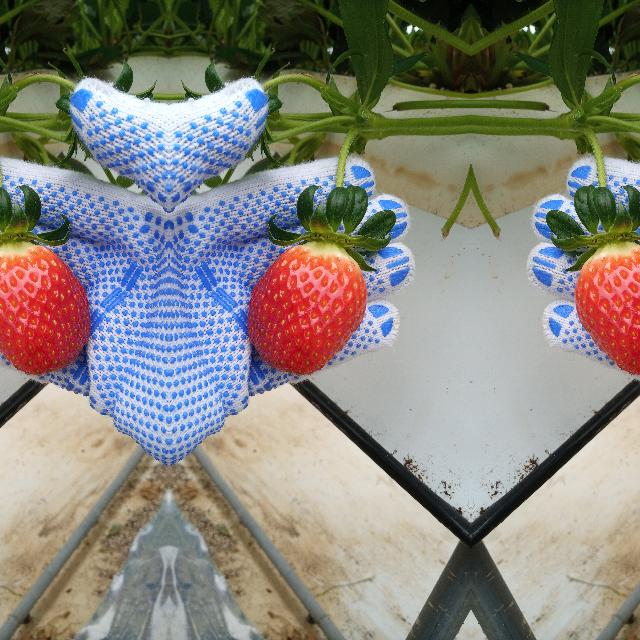Health_100: (245, 242, 367, 376), (0, 242, 91, 375), (574, 242, 640, 375)
